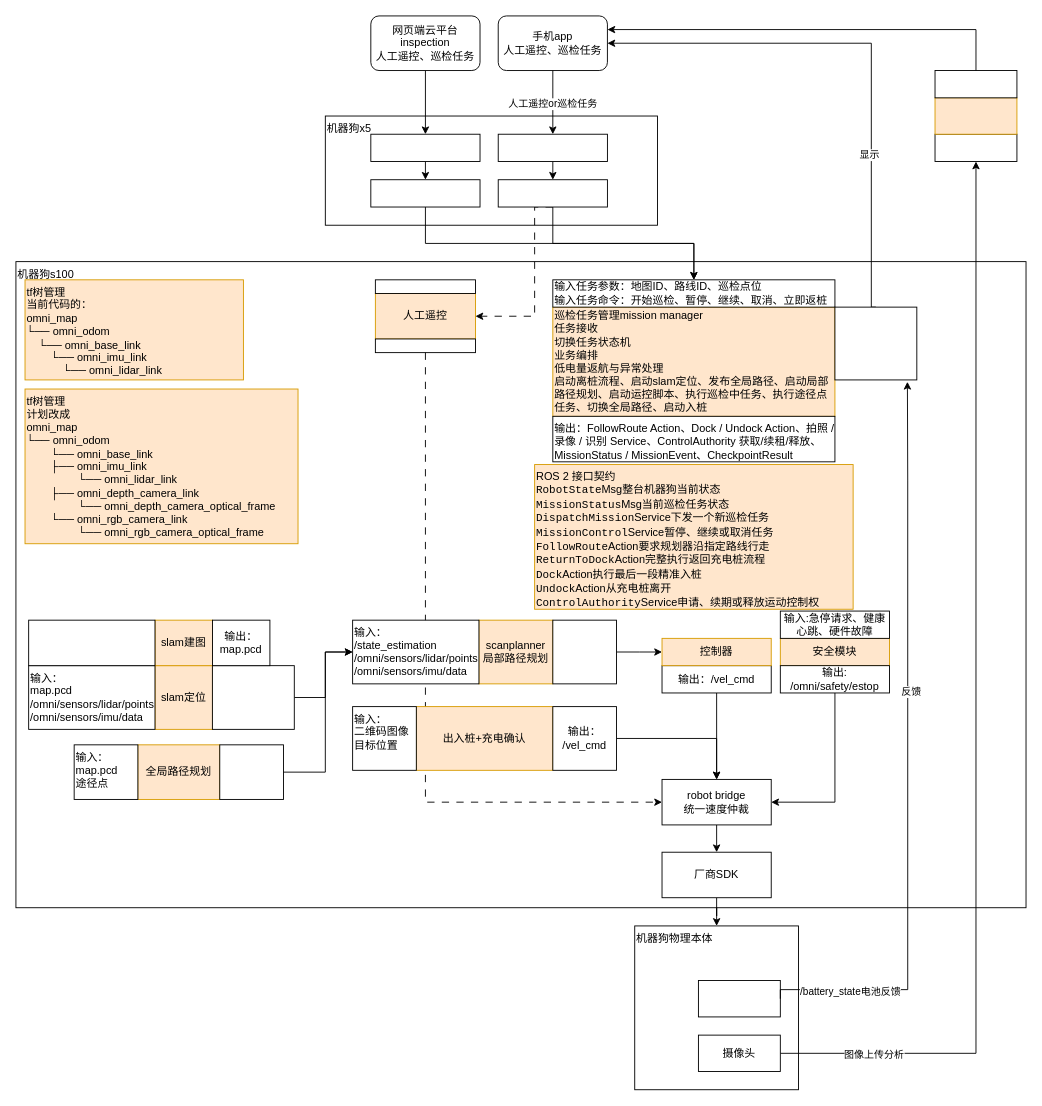
Image size: 1042x1106. Some labels were removed from this diagram. Here are the shapes that lost their labels. From the top down, the centre of each, then its label:
At [975,84]: "输出： 分析报告".
At [975,115]: "千问3.5".
At [425,147]: "inspection edge agent".
At [552,147]: "WebSocket_gateway".
At [975,147]: "输入： 图像".
At [425,193]: "ROS2 DDS通信网络".
At [552,193]: "Foxglove Bridge".
At [424,286]: "输入：运动、急停".
At [424,345]: "输出：运控信号".
At [875,343]: "反馈：位置、电量、充电状态、巡检进度和报告".
At [91,642]: "输入： /omni/sensors/lidar/points /omni/sensors/imu/data".
At [584,651]: "输出： /local_path".
At [252,697]: "输出： /state_estimation".
At [251,771]: "输出： /global_path".
At [739,998]: "电池".
